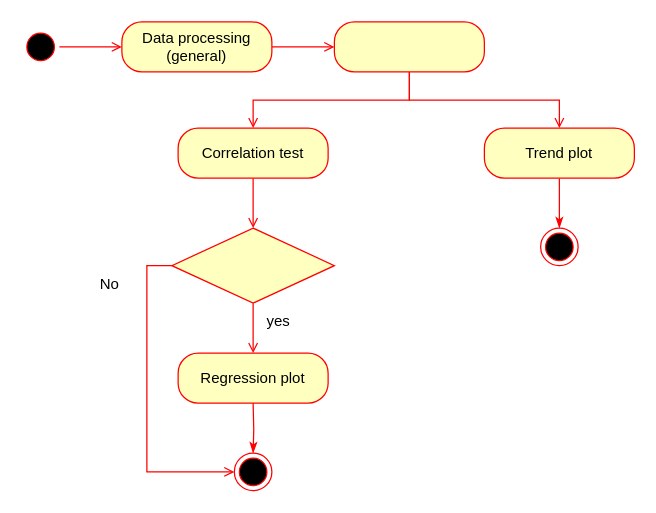
The diagram is 656 pixels wide and 513 high, and some of its shapes have lost their labels. Each missing label, with the centre of its shape:
"Data processing (specific)" belongs at [408,46].
"pvalue <= pval_thr & |corr| > = corr_thr" belongs at [252,265].
